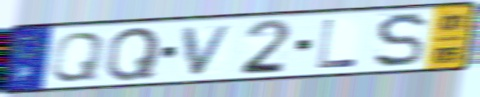2: (240, 17, 294, 76)
L: (315, 17, 360, 71)
Q: (103, 25, 163, 83), (48, 30, 108, 84)
S: (372, 11, 429, 70)
V: (180, 22, 238, 77)
